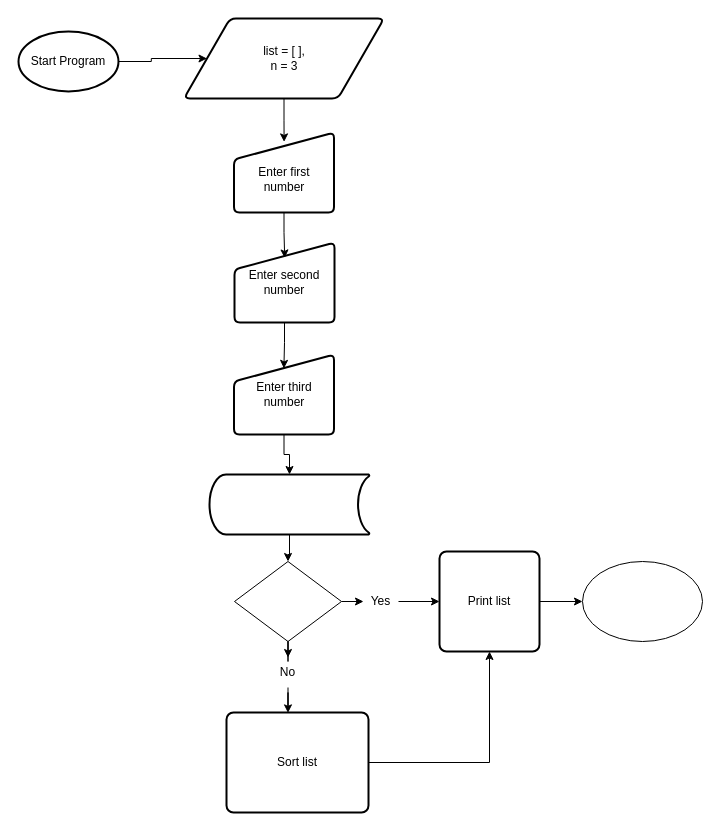
Some shapes in this 720 by 830 pixel diagram are drawn without their labels. Here are the shapes that lost their labels. From the top down, the centre of each, then its label:
[289,504]: append numbers in the empty list list = [num1, num2,num3]
[288,601]: Is list Sorted?
[642,601]: End Program
